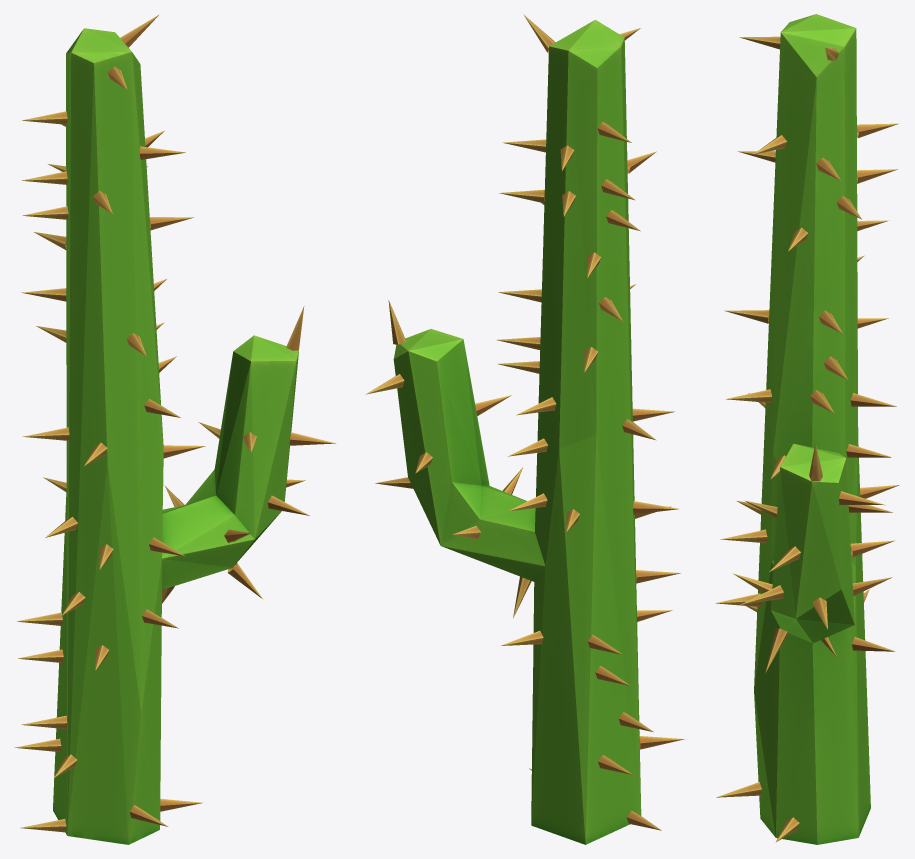
Rendered from Cactus_5.fbx.
3 views of the same model, side by side, from view 1: azimuth 30°, elevation 25°; view 2: azimuth 150°, elevation 25°; view 3: azimuth 270°, elevation 25° (orthographic).
Visible parts, largest first — view 1: Cactus_5; view 2: Cactus_5; view 3: Cactus_5.
Boxes of the visible parts, box(x1,y1,x2,y2) form: Cactus_5: box(14, 14, 336, 844); Cactus_5: box(365, 14, 685, 844); Cactus_5: box(715, 14, 899, 844).
Bounding box in the file's own units: 42.71 × 23.53 × 112.
Materials: 1 (1 with a texture image).
